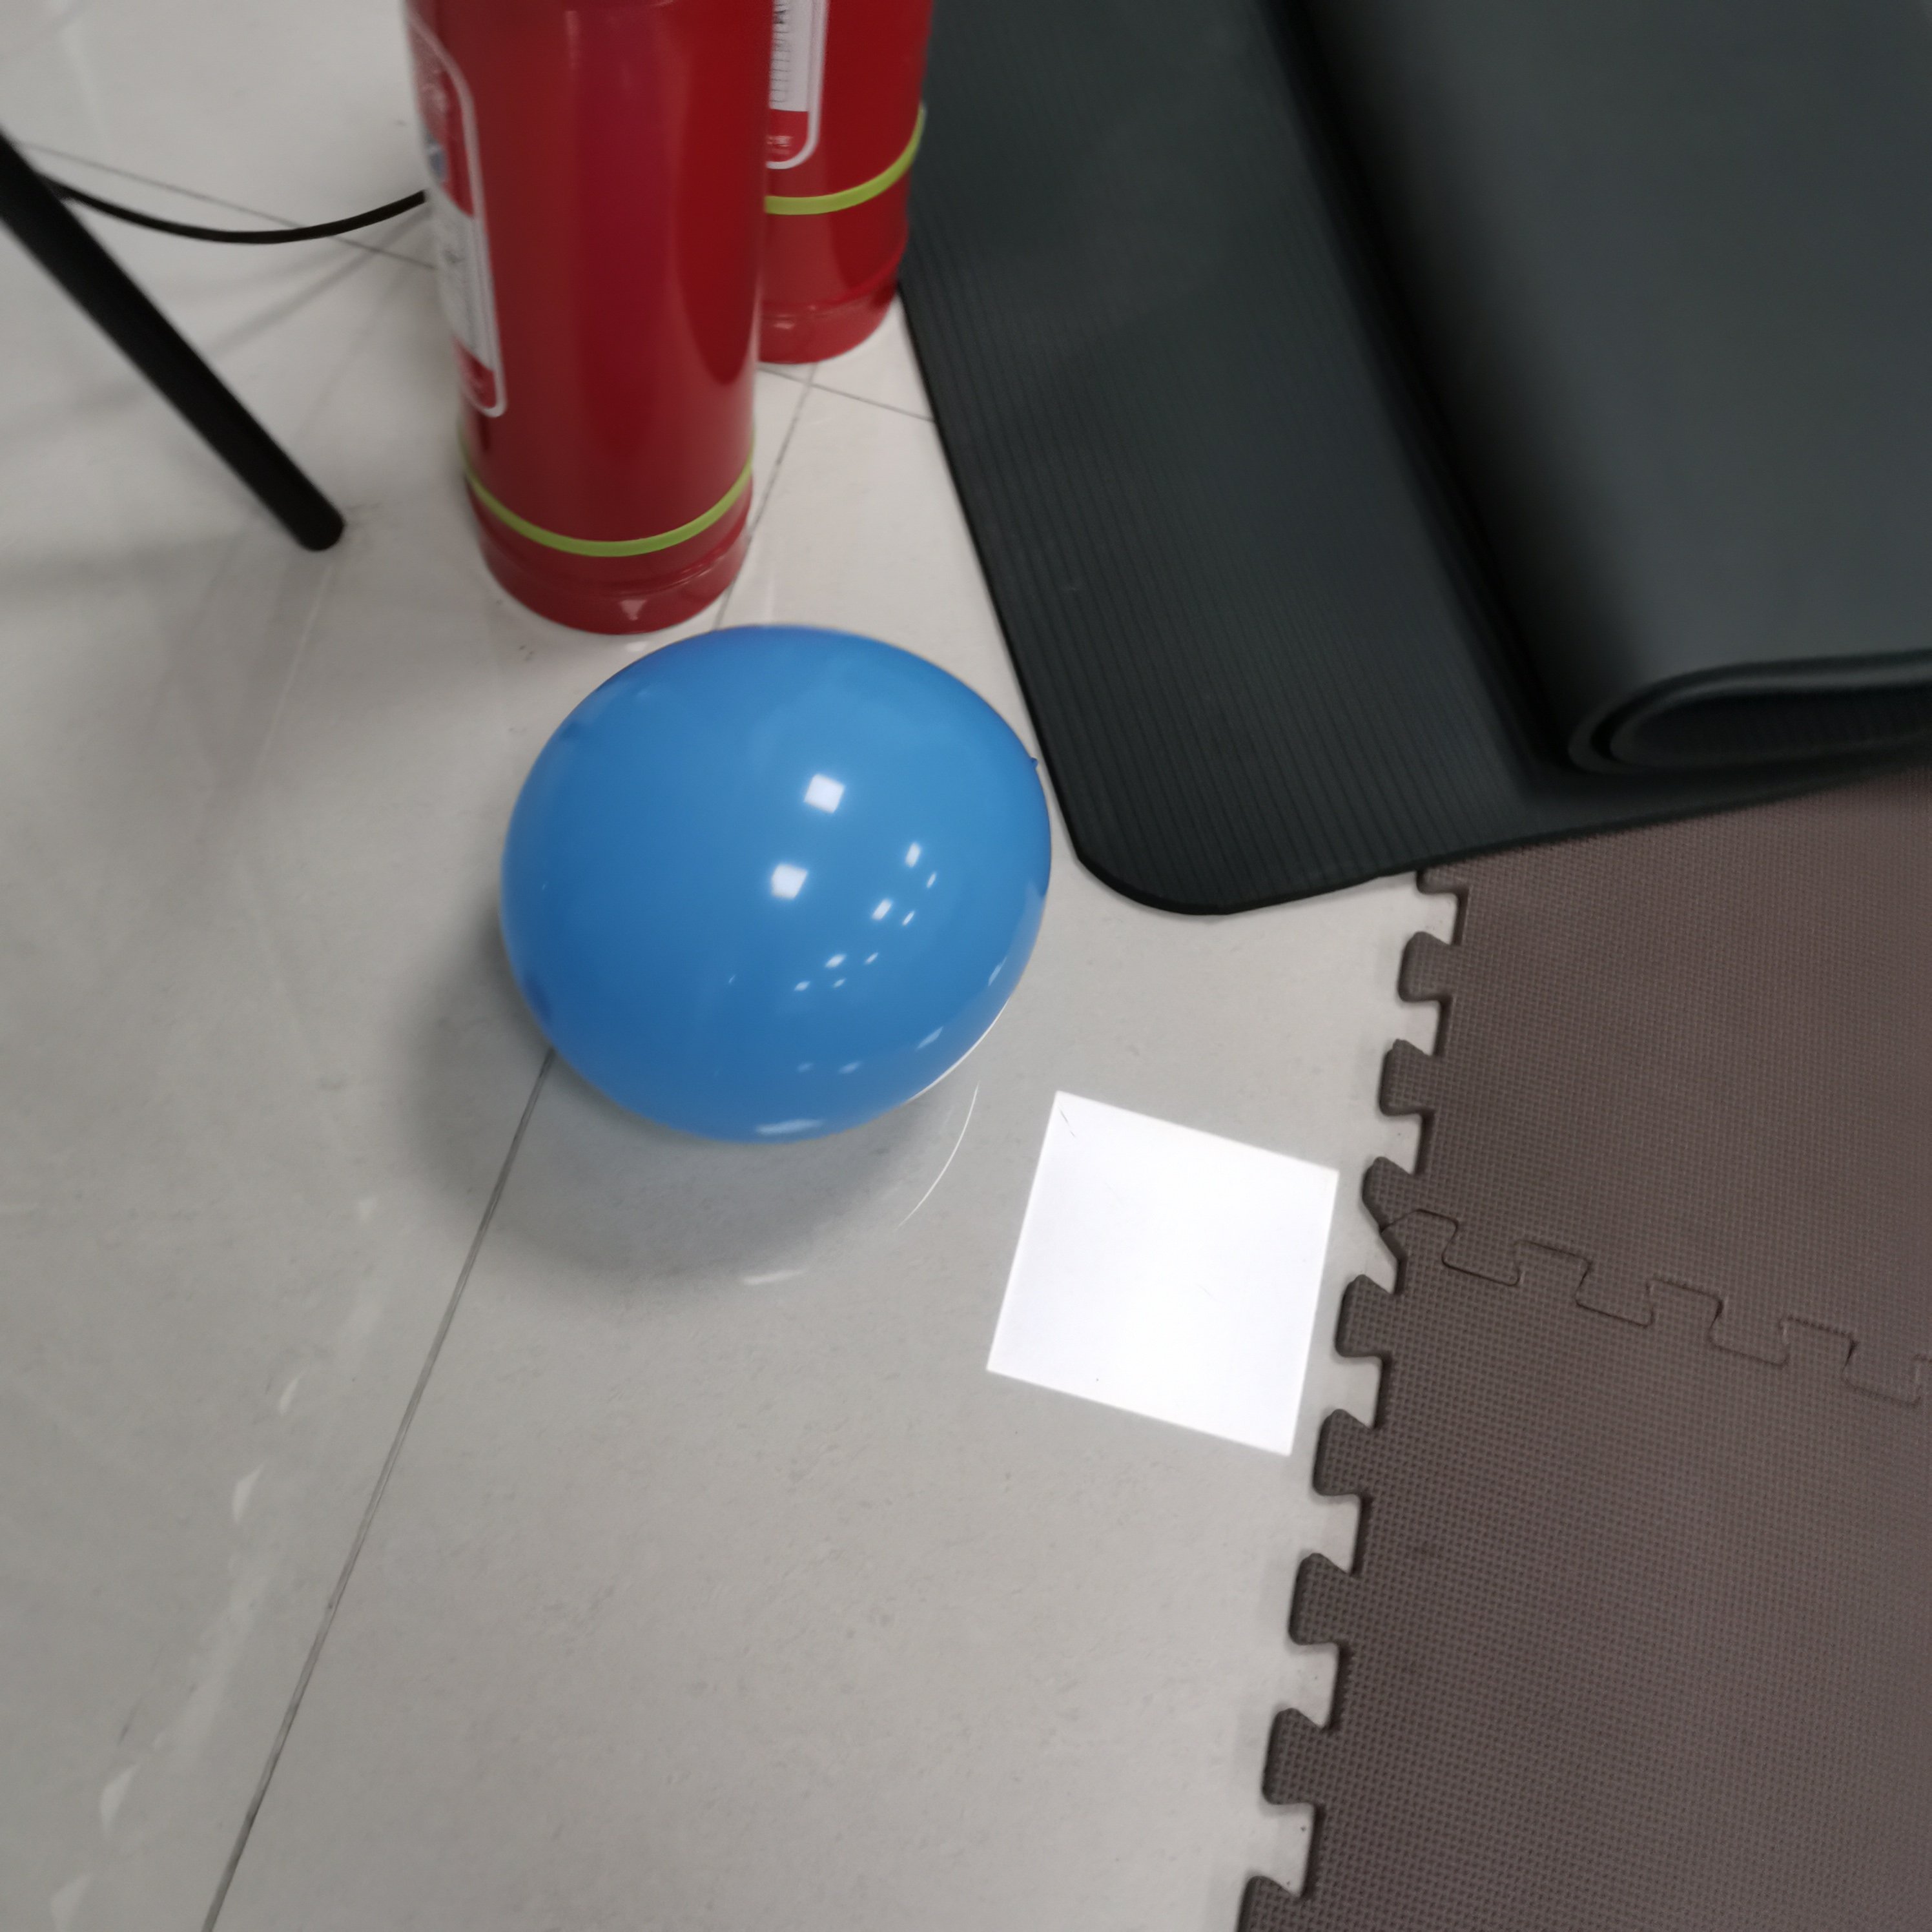balloon: (502, 621, 1054, 1145)
